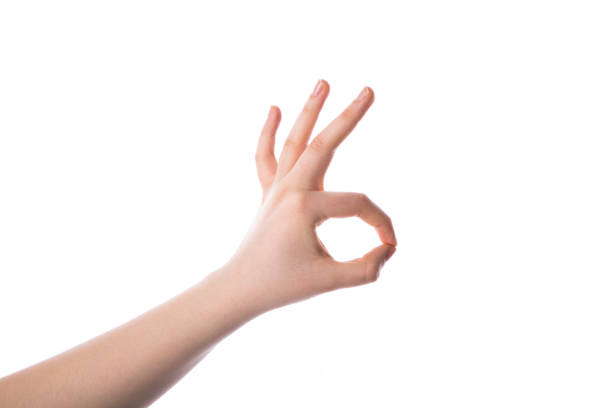oksign: (252, 85, 397, 299)
